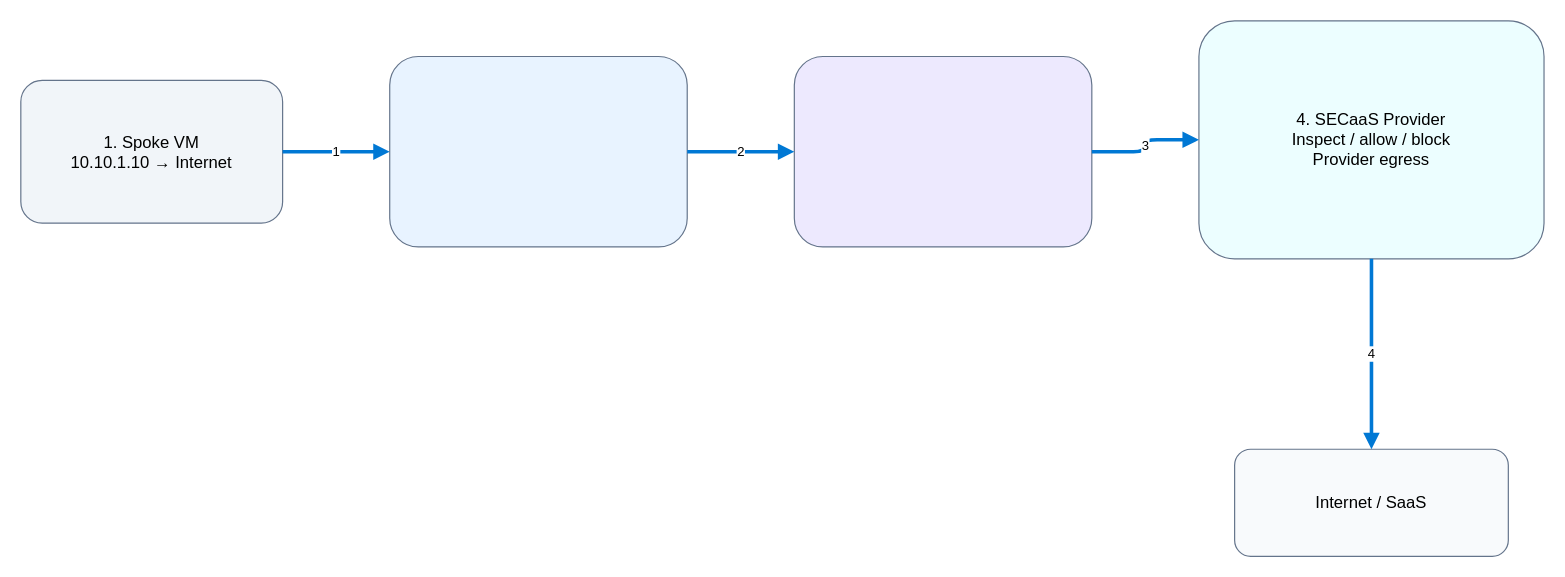
Some shapes in this 1565 by 577 pixel diagram are drawn without their labels. The centre of each missing label's shape, as x and y in pixels:
2. vHub routing 0.0.0.0/0 → partner path: [538,151]
3. S2S VPN Gateway IPsec to SECaaS: [942,151]
